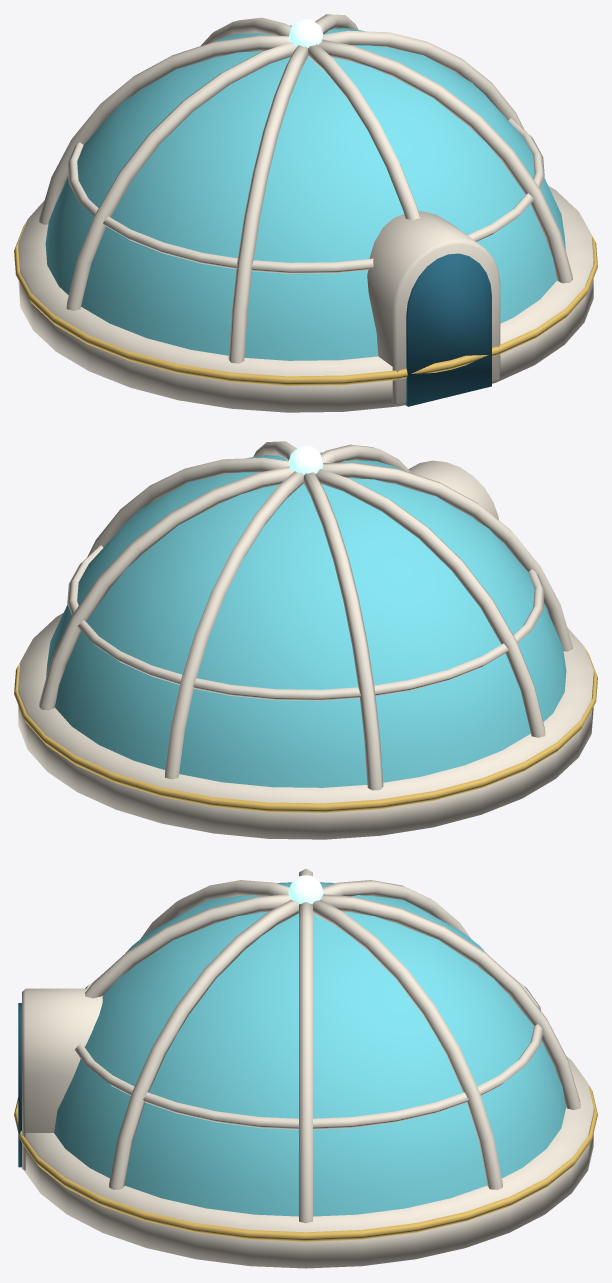
The model's file is dome.glb.
The picture shows the model from 3 angles, top to bottom: view 1: azimuth 30°, elevation 25°; view 2: azimuth 150°, elevation 25°; view 3: azimuth 270°, elevation 25°; orthographic projection.
Visible parts, largest first — view 1: dome:mesh; view 2: dome:mesh; view 3: dome:mesh.
Boxes of the visible parts, left/top/right/bottom form: dome:mesh: left=14, top=14, right=597, bottom=412; dome:mesh: left=14, top=441, right=597, bottom=839; dome:mesh: left=14, top=868, right=597, bottom=1268.
Size of the model in its own units: 3.29 by 1.68 by 3.29.
